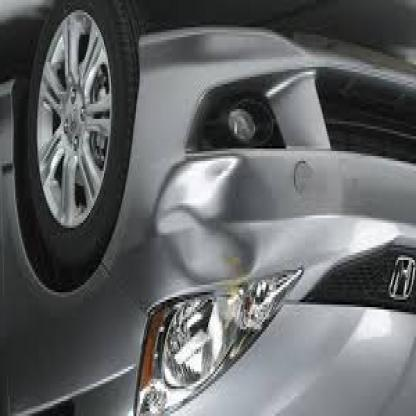dent: (157, 156, 263, 285)
